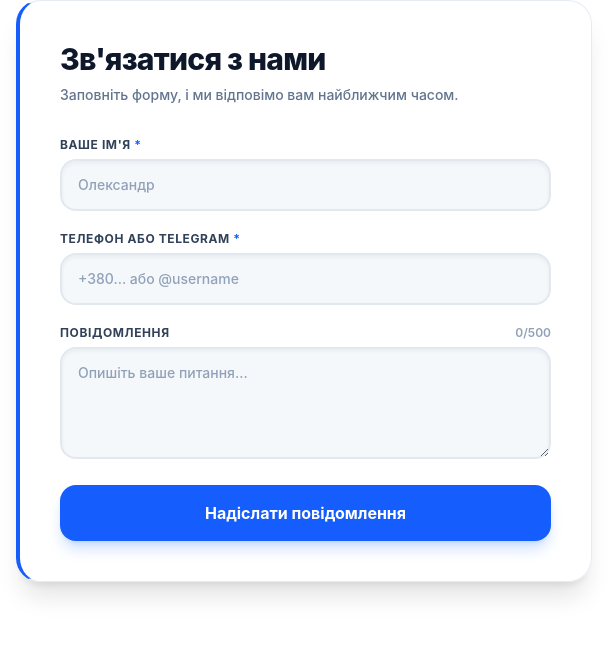
ContactForm Validation › shows error messages when inputs are invalid
This screenshot has width=609, height=664.
Click the button "Надіслати повідомлення" at (306, 513), box top-left (60, 485), bottom-right (551, 541)
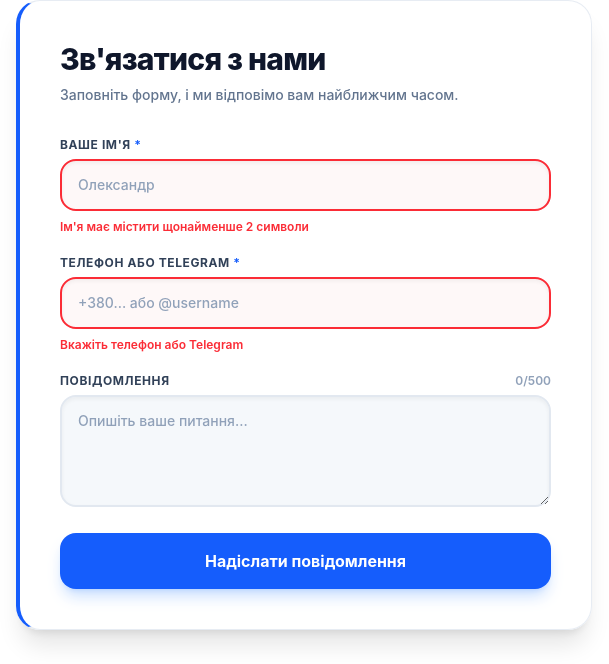
Now the text "Ім'я має містити щонайменше 2 символи" is shown, box top-left (60, 219), bottom-right (309, 234)
Now the text "Вкажіть телефон або Telegram" is shown, box top-left (60, 337), bottom-right (243, 352)
